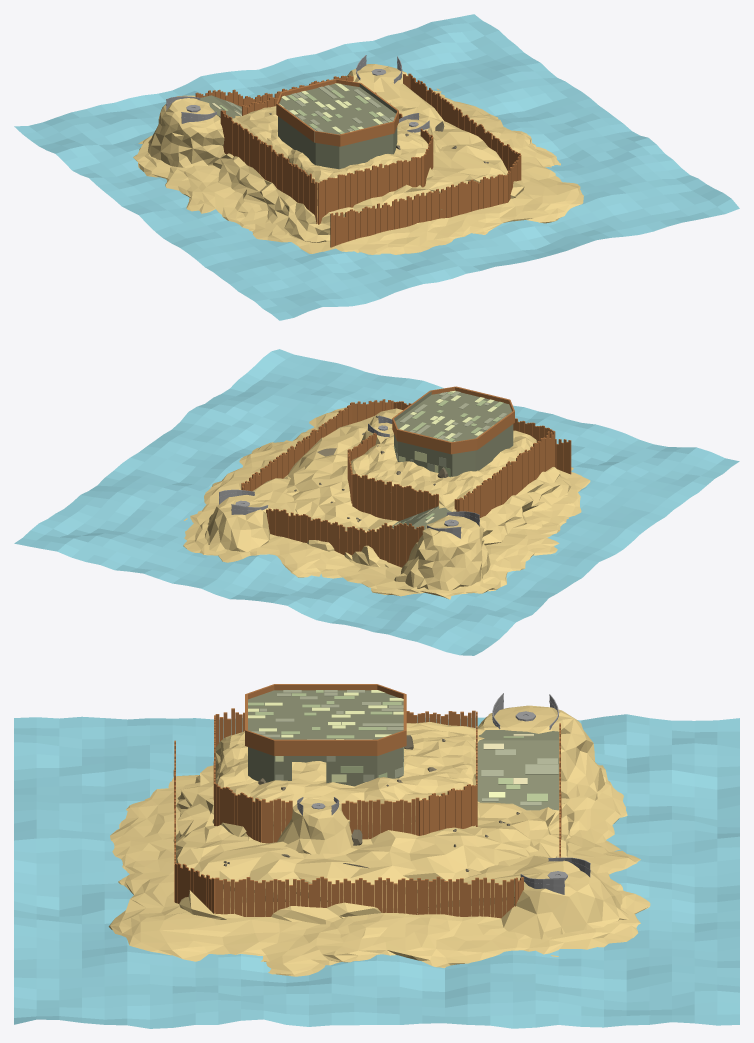
Rendered from Environment (Isola).fbx.
3 renders of one model, top to bottom at view 1: azimuth 30°, elevation 25°; view 2: azimuth 150°, elevation 25°; view 3: azimuth 270°, elevation 25°, orthographic. The views are drawn at different scales.
Parts seen in each view (by area): view 1: Mare, Sabbia base, Base forte, Forte, Cube.016, Retro, Cube.004, Mid forte, Cube.007, Cube.009, Frontale; view 2: Mare, Sabbia base, Base forte, Forte, Retro, Mid forte, Frontale, Cube.004, Cube.003, Cube.011, Cube.009, Cube.013 (+4 smaller); view 3: Mare, Sabbia base, Base forte, Forte, Mid forte, Cube.009, Frontale, Rampa?, Retro, Icosphere, Cube.001, Cube.002 (+4 smaller).
Boxes of the visible parts, x1,y1,x2,y2 form: Mare: (14, 14, 739, 320); Sabbia base: (133, 88, 583, 254); Base forte: (213, 102, 524, 242); Forte: (276, 79, 398, 169); Cube.016: (330, 174, 507, 247); Retro: (148, 95, 224, 167); Cube.004: (221, 110, 317, 223); Mid forte: (232, 106, 434, 205); Cube.007: (318, 155, 424, 224); Cube.009: (410, 75, 520, 170); Frontale: (346, 64, 443, 120); Mare: (14, 349, 739, 655); Sabbia base: (183, 407, 590, 599); Base forte: (284, 408, 571, 567); Forte: (392, 386, 514, 476); Retro: (394, 515, 490, 590); Mid forte: (351, 430, 536, 511); Frontale: (205, 478, 297, 551); Cube.004: (459, 431, 555, 517); Cube.003: (352, 473, 438, 521); Cube.011: (266, 508, 371, 555); Cube.009: (243, 402, 352, 491); Cube.013: (381, 522, 399, 566); Mare: (14, 714, 739, 1028); Sabbia base: (108, 765, 650, 976); Base forte: (173, 765, 574, 924); Forte: (245, 684, 406, 786); Mid forte: (212, 722, 485, 842); Cube.009: (215, 876, 513, 918); Frontale: (417, 855, 628, 939); Rampa?: (477, 730, 558, 810); Retro: (477, 705, 605, 800); Icosphere: (277, 798, 353, 854); Cube.001: (341, 797, 419, 839); Cube.002: (419, 784, 477, 835).
Size of the model in its own units: 54.39 by 11.07 by 54.4.
